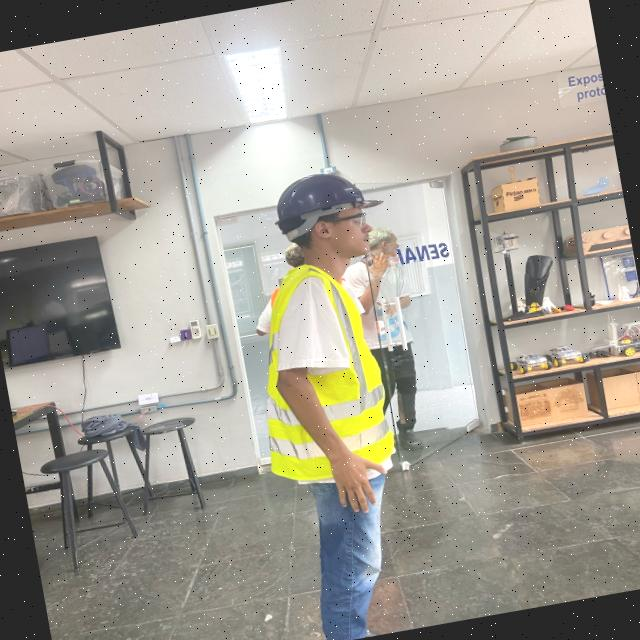BOTA: (395, 425, 428, 449)
CAPACETE: (269, 171, 385, 242)
COLETE: (260, 263, 401, 479)
OCULOS: (305, 212, 366, 237)
SEM LUVA: (326, 457, 389, 516), (363, 251, 390, 277), (372, 301, 399, 317)
